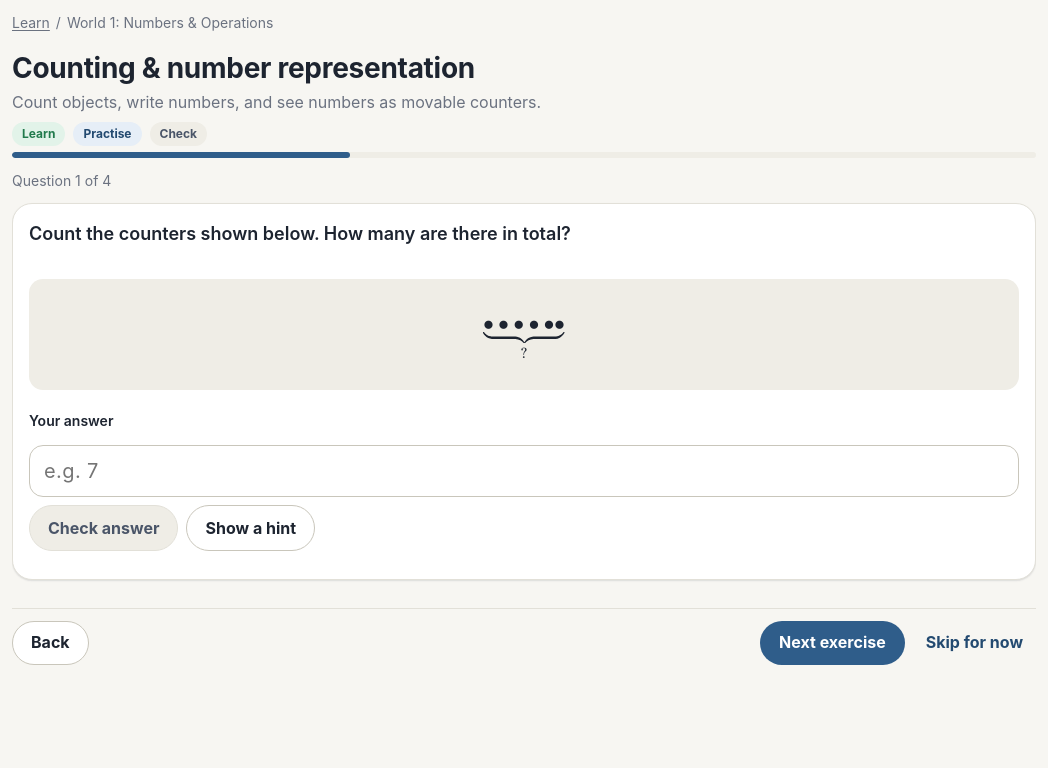
Test: a progress write that fails (defect B) › "Try again" after a failed answer writes no lesson record of its own
This screenshot has width=1048, height=768.
Type "6" into the field with test id "answer-input".
click(524, 471); type("6")  # box [29, 445, 1019, 497]
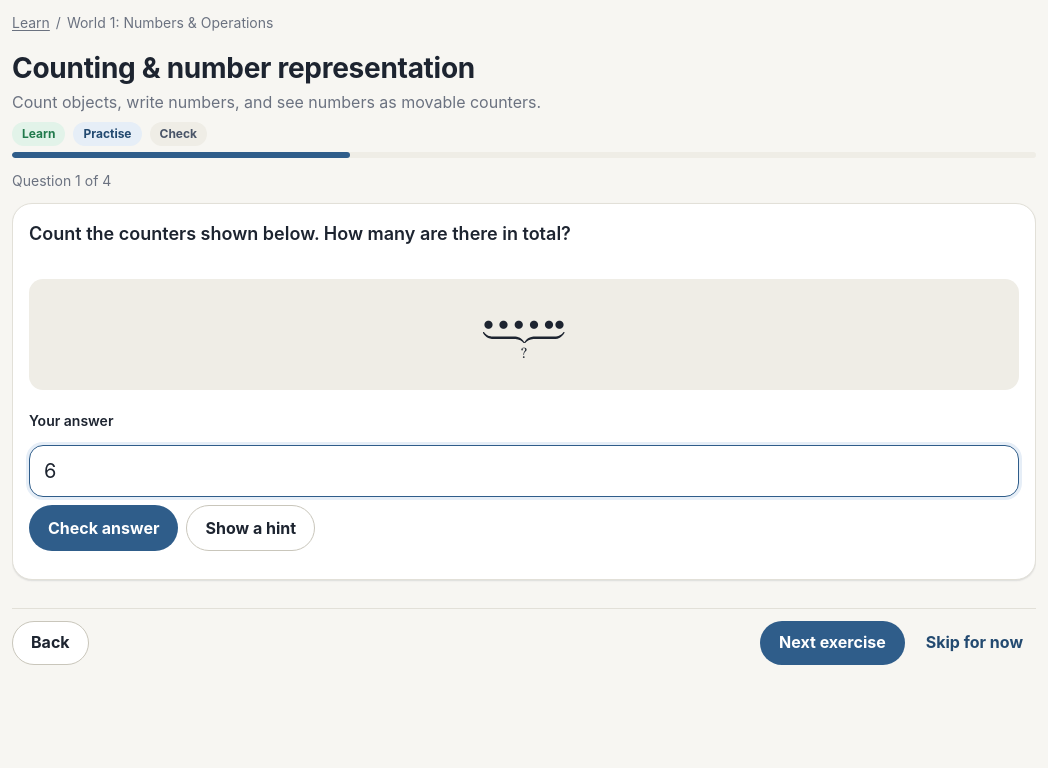
Click the button with test id "submit-answer".
click(104, 528)  # box [29, 505, 178, 551]
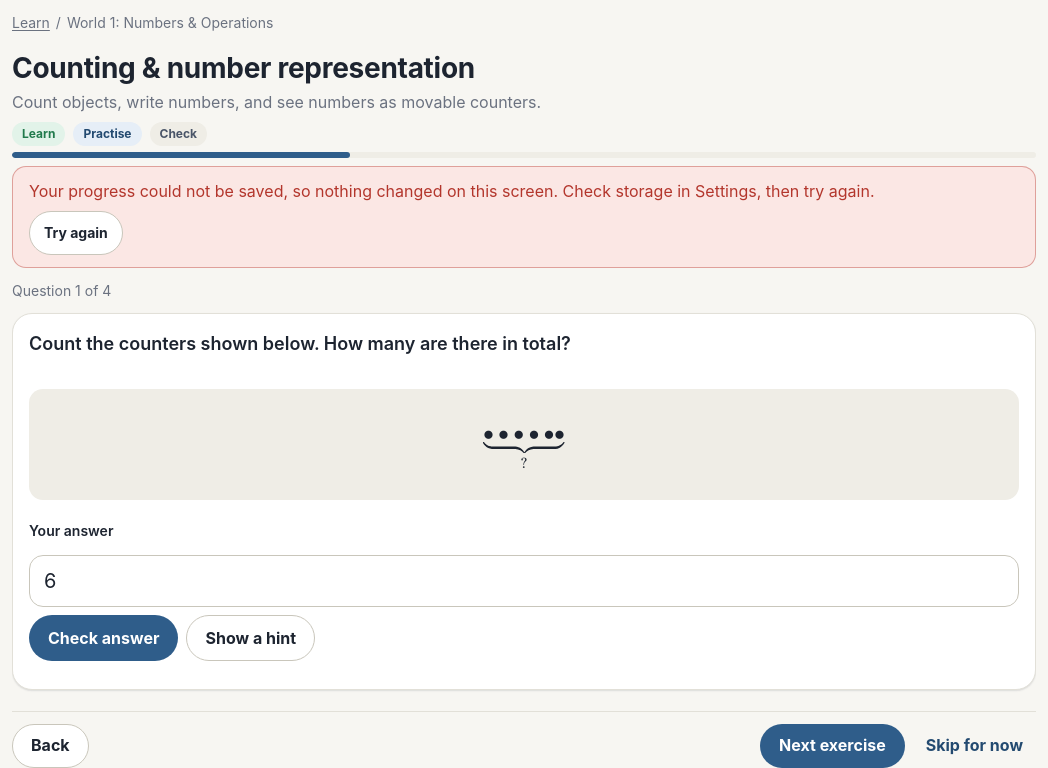
Check: the message with test id "save-error" is shown, box [12, 166, 1036, 268]
Click the button with test id "retry-save".
click(76, 233)  # box [29, 211, 123, 255]
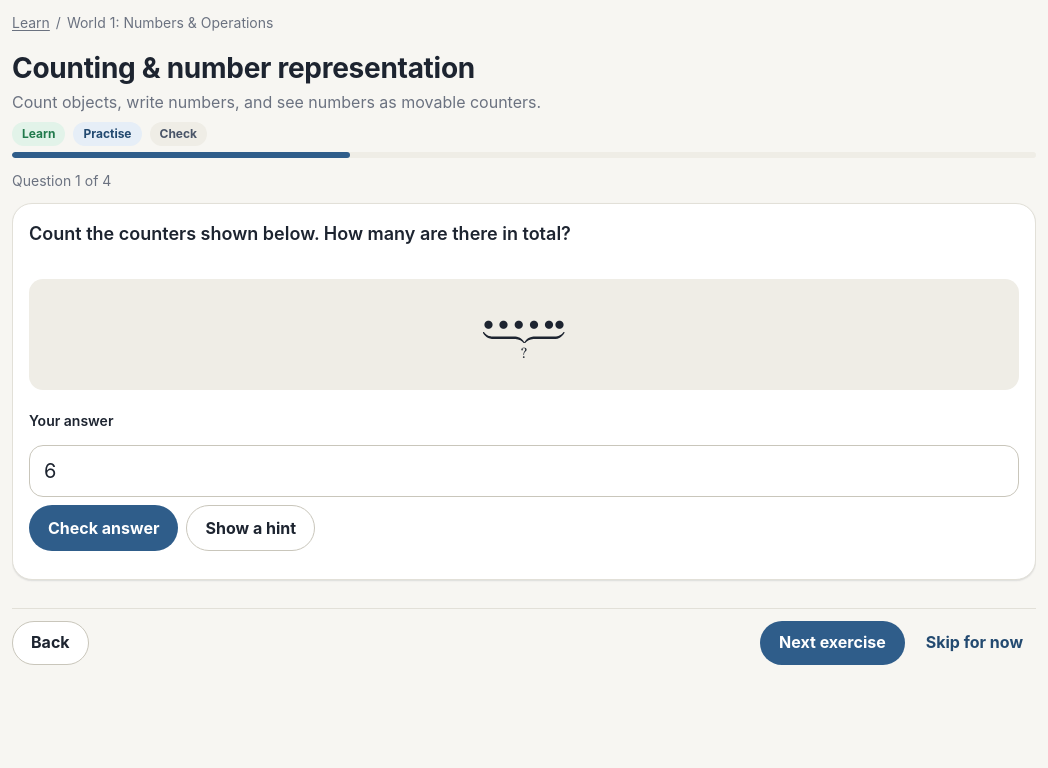
Check: the message with test id "save-error" is gone
